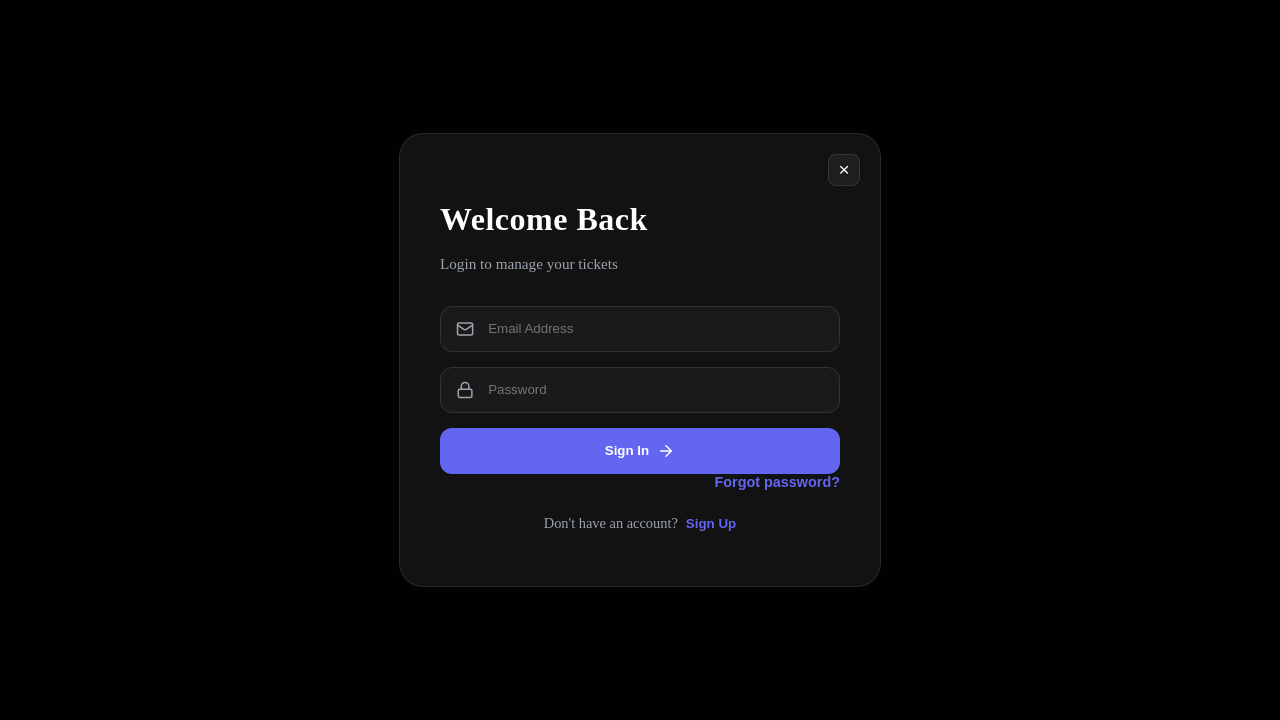
it: Auth › shows the server message when login is rejected
The width and height of the screenshot is (1280, 720).
Type "user@example.com" into the field with placeholder "Email Address" at (655, 329), box top-left (486, 320), bottom-right (824, 337)
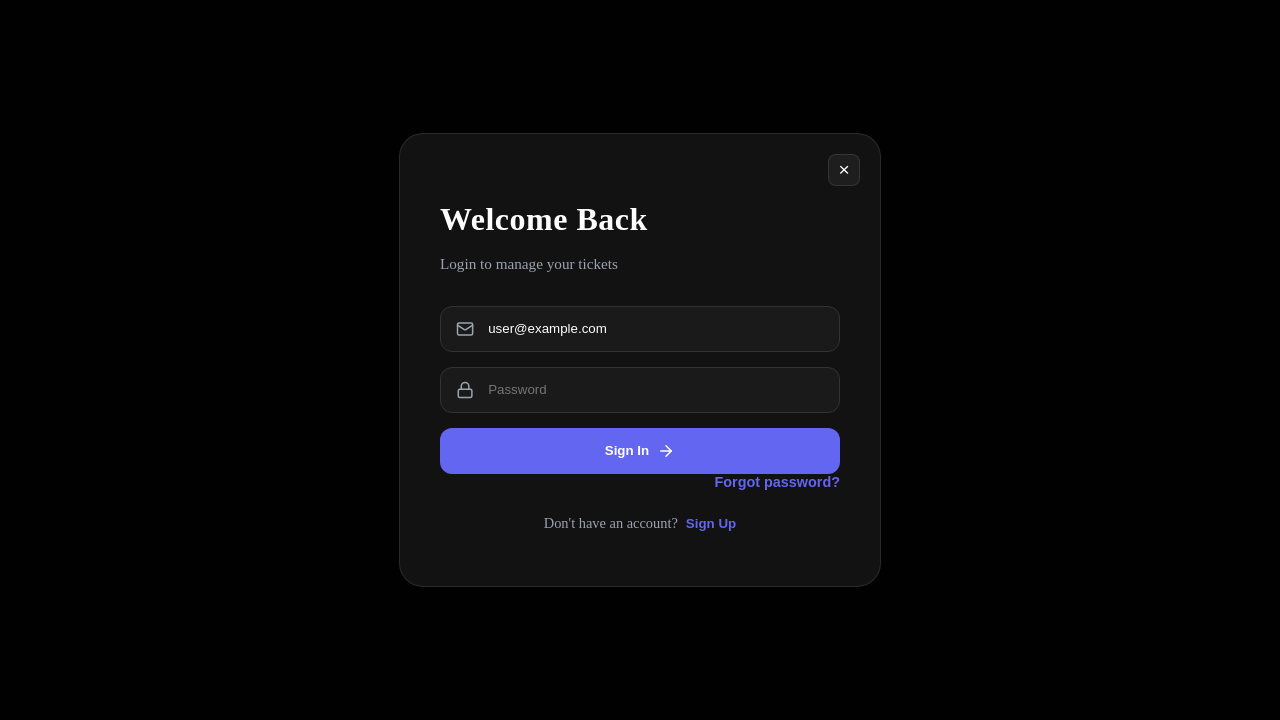
Type "valid-password" into the password field with placeholder "Password" at (655, 390), box top-left (486, 381), bottom-right (824, 398)
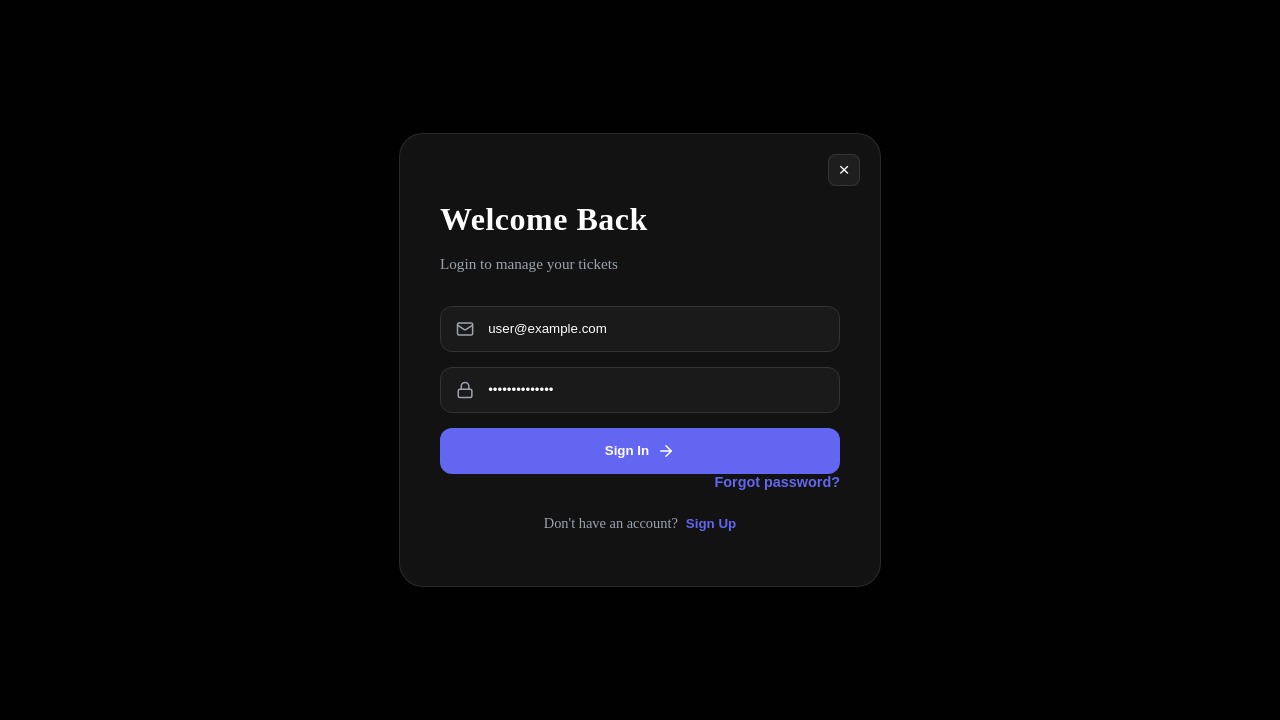
Click the button "Sign In" at (640, 451), box top-left (440, 428), bottom-right (840, 474)
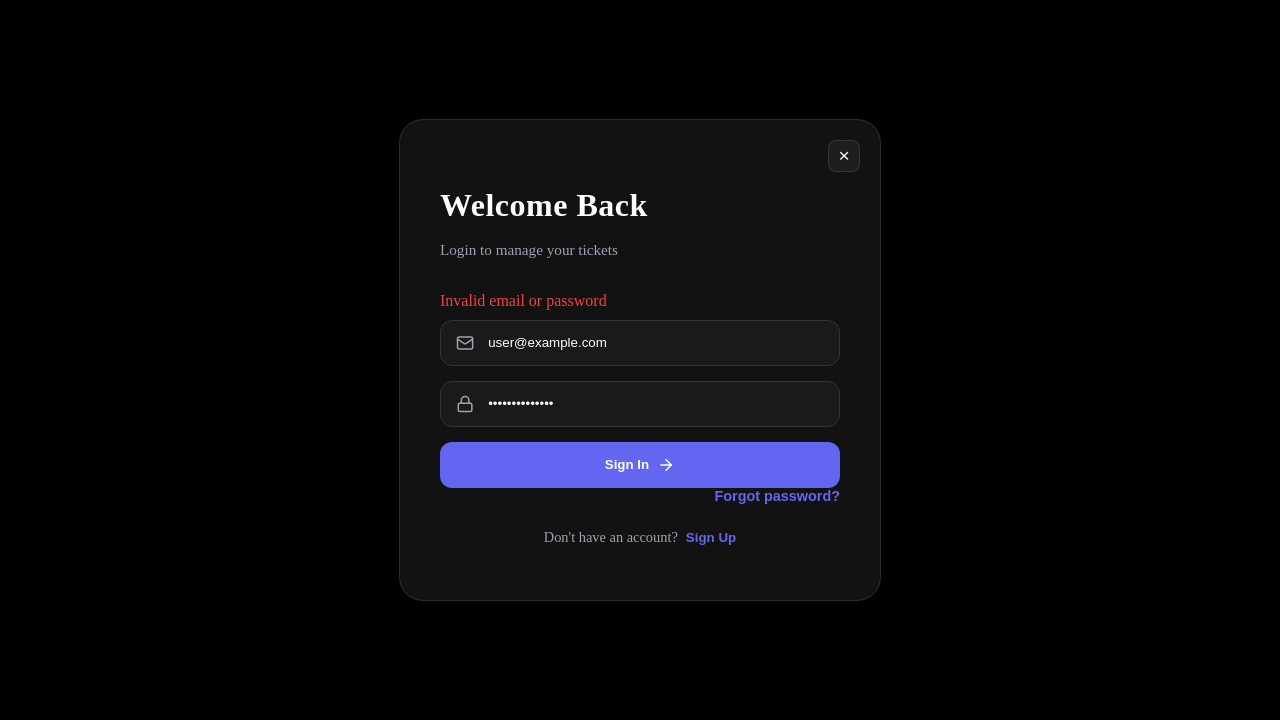
expect the text "Invalid email or password" is shown: met, box top-left (440, 292), bottom-right (607, 309)
